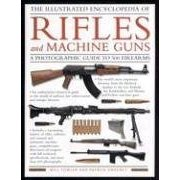rifle: (27, 101, 151, 124), (30, 64, 149, 86), (68, 149, 147, 163)
